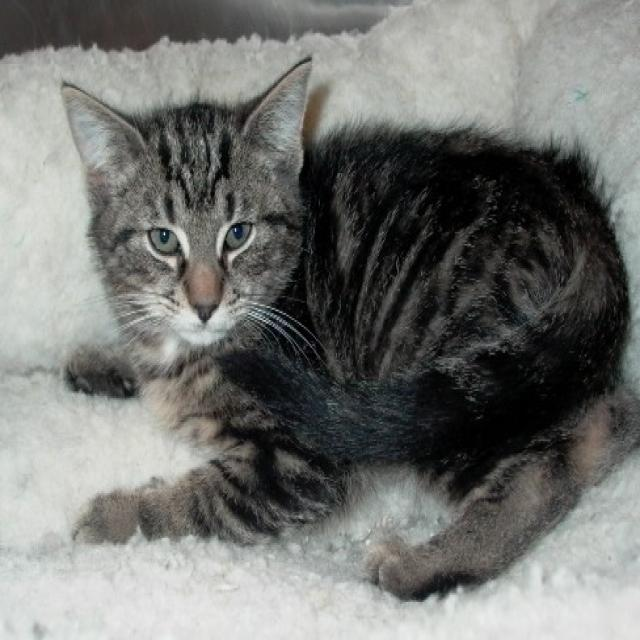Cats: (59, 54, 637, 600)
